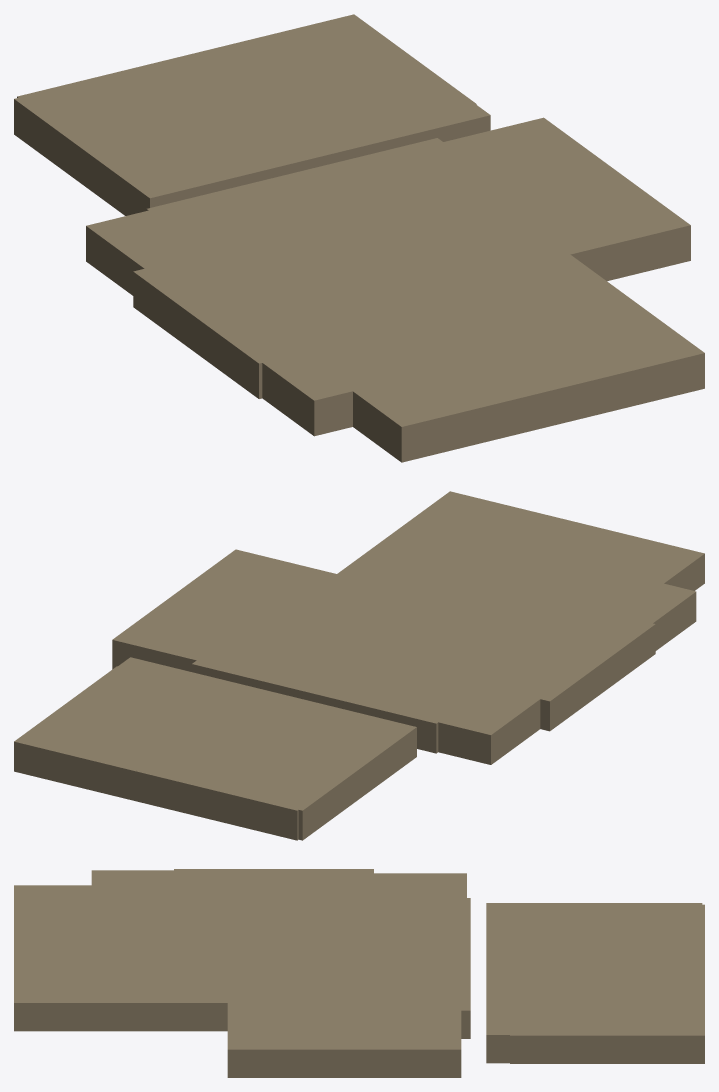
Rendered from leaf_litter_v0_near.gltf.
3 renders of one model, top to bottom at view 1: azimuth 30°, elevation 25°; view 2: azimuth 150°, elevation 25°; view 3: azimuth 270°, elevation 25°, orthographic. The views are drawn at different scales.
Visible parts, largest first — view 1: cover; view 2: cover; view 3: cover.
Boxes of the visible parts, box(x1,y1,x2,y2) form: cover: box(14, 14, 704, 462); cover: box(14, 491, 704, 840); cover: box(14, 869, 704, 1077).
Size of the model in its own units: 0.2735 by 0.02 by 0.4423.
